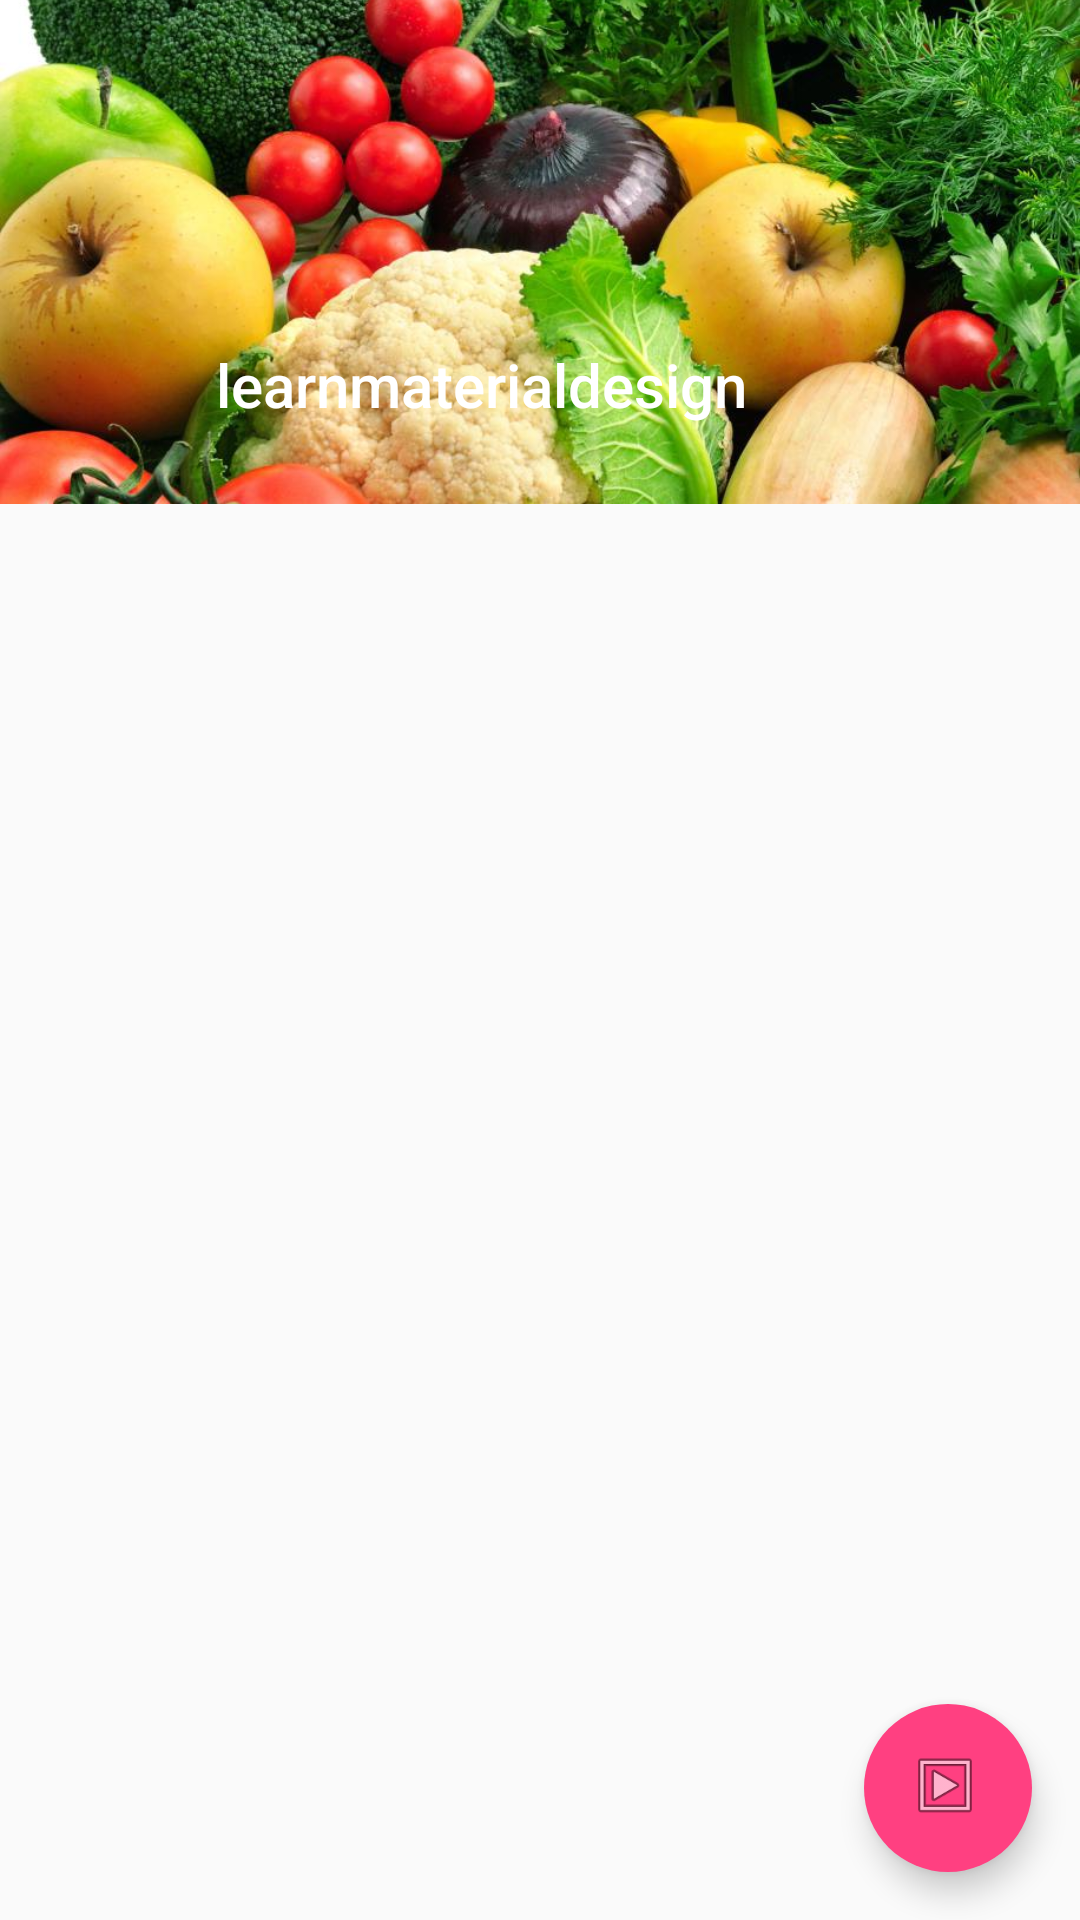

Point at icon controls on the screen. Image size 1080×1920, points as (x,y).
slideshow: (948,1788)
